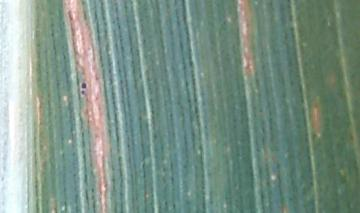tarspot: (79, 80, 90, 90), (79, 89, 87, 96)
